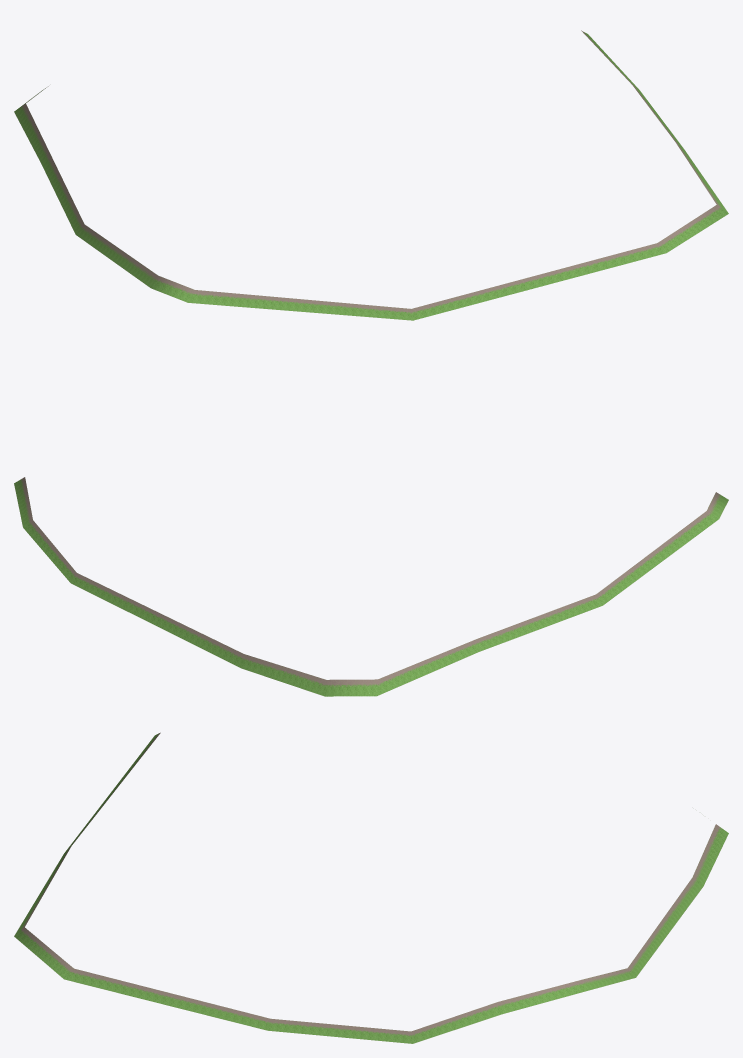
File: kd_stage_136599_10_36_bounded.glb
3 views of the same model, one above another, from view 1: azimuth 30°, elevation 25°; view 2: azimuth 150°, elevation 25°; view 3: azimuth 270°, elevation 25° (orthographic). The views are drawn at different scales.
Parts seen in each view (by area): view 1: kd_stage_136599_10_36_bounded; view 2: kd_stage_136599_10_36_bounded; view 3: kd_stage_136599_10_36_bounded.
Boxes of the visible parts, box(x1,y1,x2,y2) form: kd_stage_136599_10_36_bounded: box(14, 30, 728, 320); kd_stage_136599_10_36_bounded: box(14, 477, 728, 696); kd_stage_136599_10_36_bounded: box(14, 732, 728, 1043).
Size of the model in its own units: 270 by 19.72 by 278.
1 material, 1 textured.
